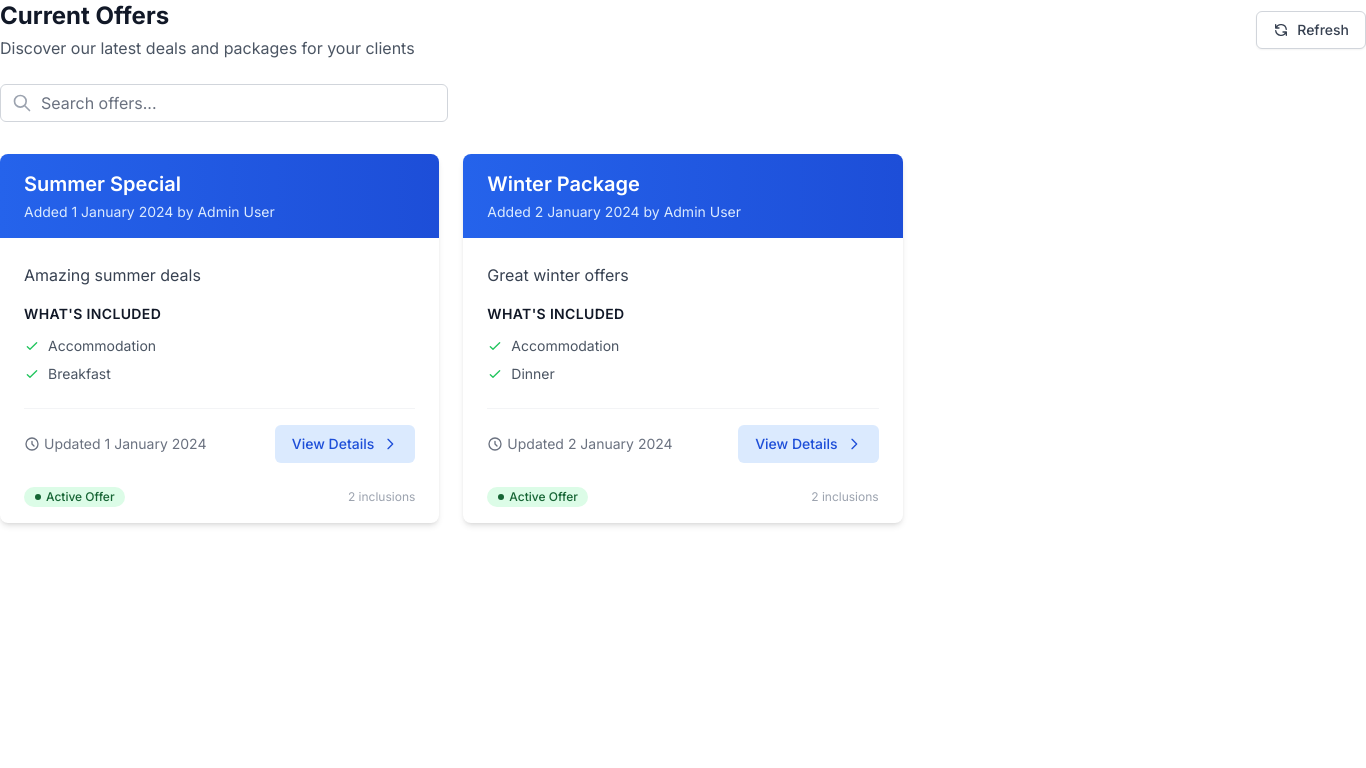
OffersList › opens offer details modal when View Details is clicked
Expected: the heading "Summer Special" is shown, [24,172,181,196]
Click the button "View Details" below "Breakfast".
click(345, 444)  # box [275,425,415,463]
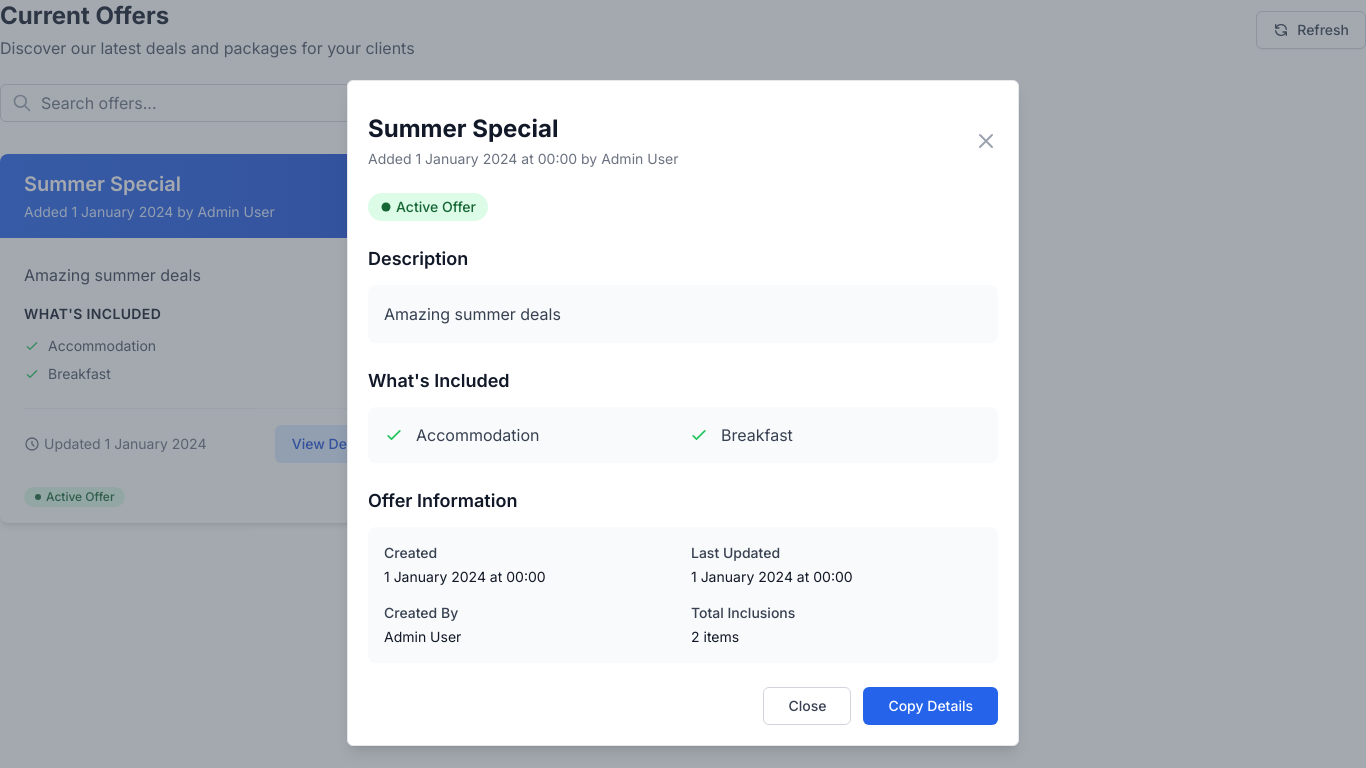
Now the heading "Description" is shown, box [368,248,468,269]
